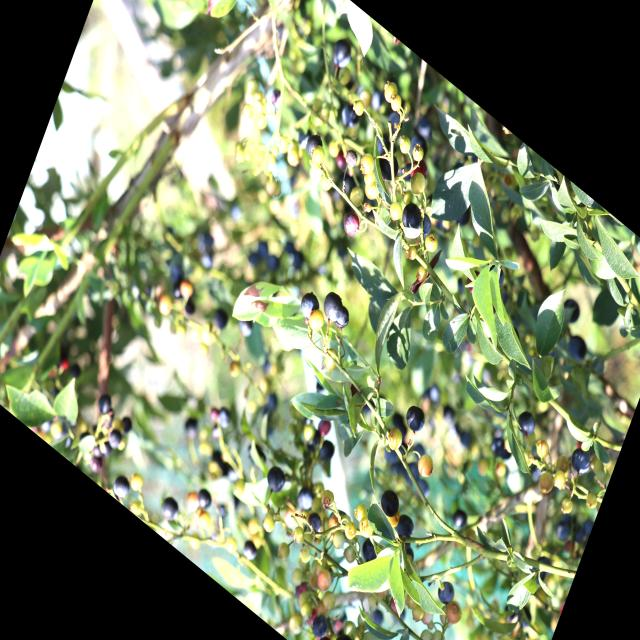blueberry: (374, 144, 404, 188), (398, 196, 426, 238), (319, 285, 346, 327), (567, 443, 593, 482), (552, 510, 577, 550), (297, 287, 323, 325), (448, 499, 473, 537), (564, 330, 589, 367), (403, 400, 428, 437), (330, 36, 354, 74), (484, 260, 508, 296), (264, 462, 288, 497), (514, 407, 538, 441), (378, 486, 402, 520), (339, 100, 362, 135), (109, 470, 133, 503), (393, 511, 416, 545), (158, 492, 181, 526), (294, 483, 317, 516), (340, 208, 362, 241), (435, 578, 457, 610), (358, 536, 380, 568), (561, 296, 583, 327), (304, 130, 325, 162), (332, 302, 353, 334), (308, 611, 331, 640), (416, 208, 435, 241), (94, 388, 114, 419), (317, 436, 336, 466), (195, 484, 214, 514), (304, 510, 324, 538), (240, 537, 260, 565), (106, 425, 124, 453), (98, 407, 114, 433), (118, 413, 134, 437), (330, 630, 355, 640)
blueberry-halfripe: (408, 155, 431, 188)
blueberry-unripe: (304, 300, 330, 339), (413, 446, 439, 484), (384, 421, 408, 457), (354, 510, 377, 544), (321, 342, 344, 374), (408, 167, 430, 199), (314, 565, 335, 597), (380, 76, 401, 108), (347, 182, 368, 212), (358, 149, 378, 180), (362, 176, 382, 206), (420, 228, 440, 258), (316, 168, 336, 196), (319, 586, 338, 615), (383, 503, 402, 532), (290, 522, 309, 550), (329, 528, 348, 555), (318, 485, 336, 512), (352, 499, 370, 526), (410, 599, 428, 626), (260, 510, 278, 536), (342, 516, 360, 542), (341, 541, 358, 567), (310, 141, 327, 167), (387, 198, 404, 224), (350, 95, 367, 120), (388, 91, 404, 116), (404, 242, 420, 267), (397, 132, 412, 158), (298, 543, 314, 567), (276, 540, 292, 564), (362, 168, 378, 192), (410, 140, 426, 163), (404, 594, 418, 614), (414, 264, 428, 284), (416, 627, 436, 640), (308, 156, 321, 174)
